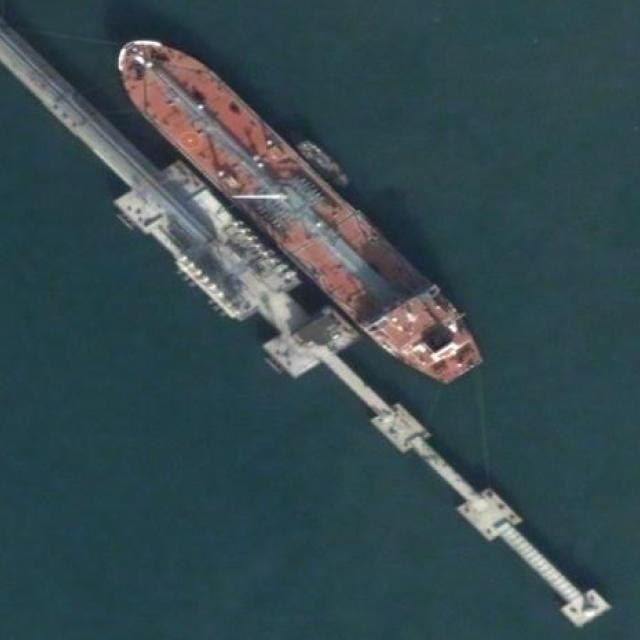Oil Tanker: (100, 13, 495, 405)
